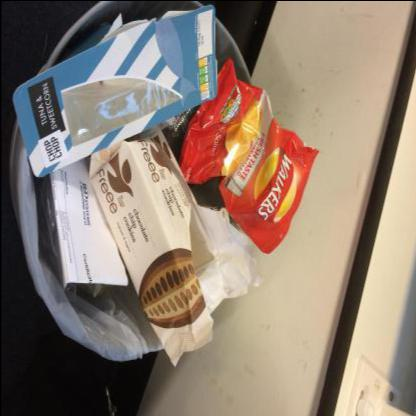Carton: (12, 3, 217, 176), (150, 137, 213, 277)
Paper: (48, 160, 127, 288)
Plastic bag - wrapper: (88, 124, 264, 366), (16, 144, 163, 361), (177, 57, 318, 254), (60, 77, 180, 145)
